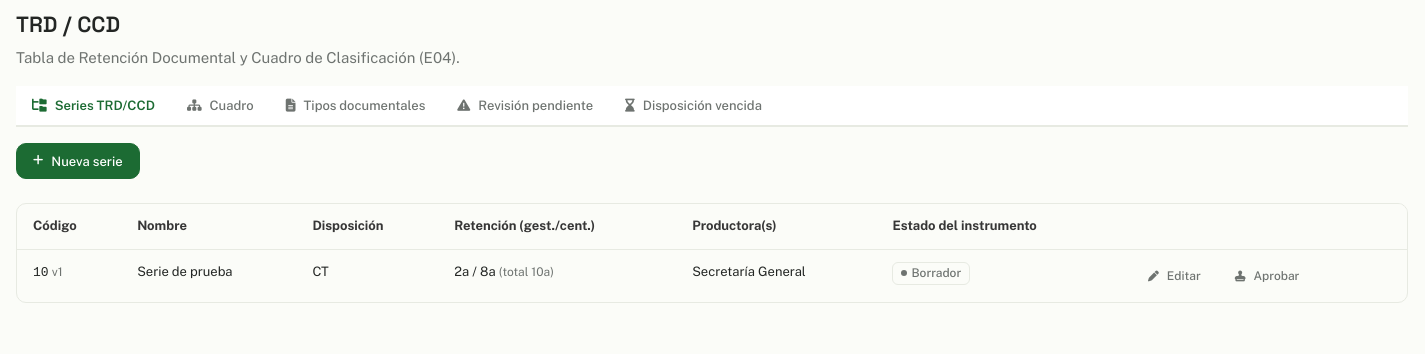
Test case: /admin/trd — Revisión pendiente (ADR-025 D4/D6) › lista los expedientes marcados, con su motivo
Click the tab "Revisión pendiente". click: click(525, 107)
box: [441,86,609,127]
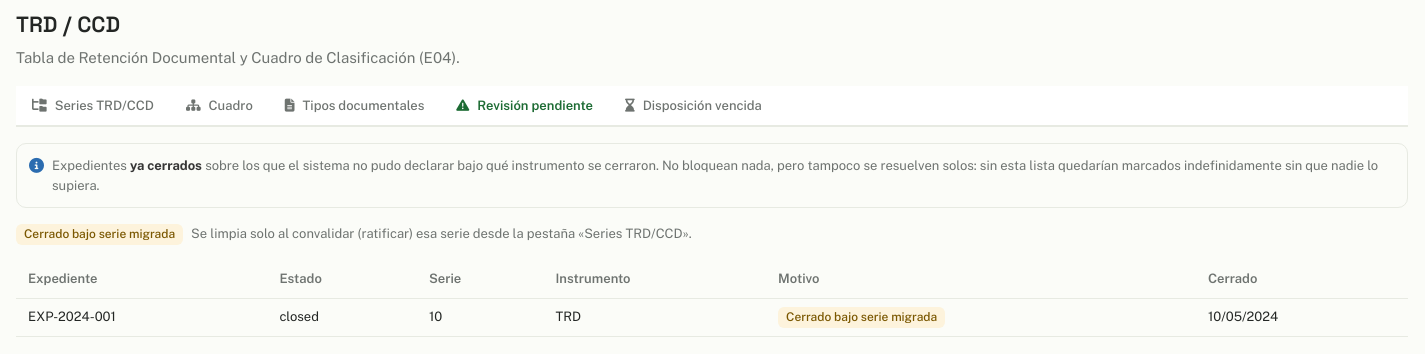
Result: the text "EXP-2024-001" is shown at [16,299,267,336]
Result: the 1st text "Cerrado bajo serie migrada" is shown at [16,224,183,245]
